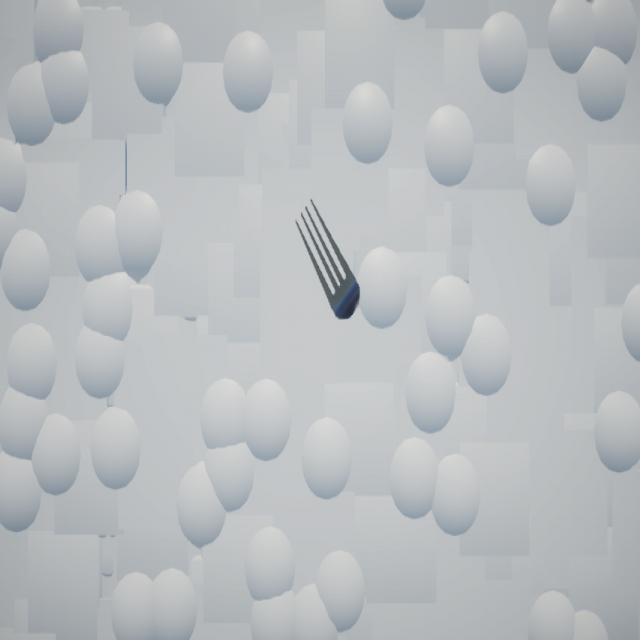top_folk: (296, 200, 361, 321)
